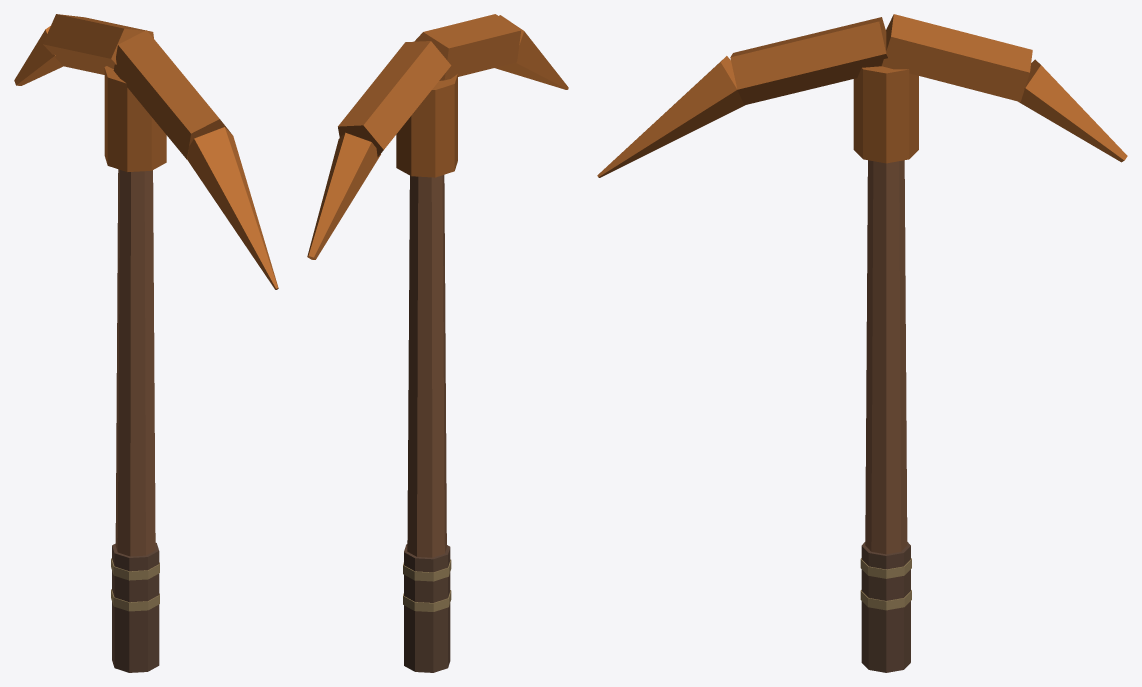
The model's file is tool_pick_copper.glb.
The picture shows the model from 3 angles, left to right: view 1: azimuth 30°, elevation 25°; view 2: azimuth 150°, elevation 25°; view 3: azimuth 270°, elevation 25°; orthographic projection. The views are drawn at different scales.
Visible parts, largest first — view 1: tool_pick_copper; view 2: tool_pick_copper; view 3: tool_pick_copper.
Part boxes in pixels (x1=…): tool_pick_copper: x1=14, y1=14, x2=278, y2=672; tool_pick_copper: x1=307, y1=14, x2=568, y2=672; tool_pick_copper: x1=597, y1=14, x2=1127, y2=672.
Size of the model in its own units: 0.066 by 0.7166 by 0.5344.
